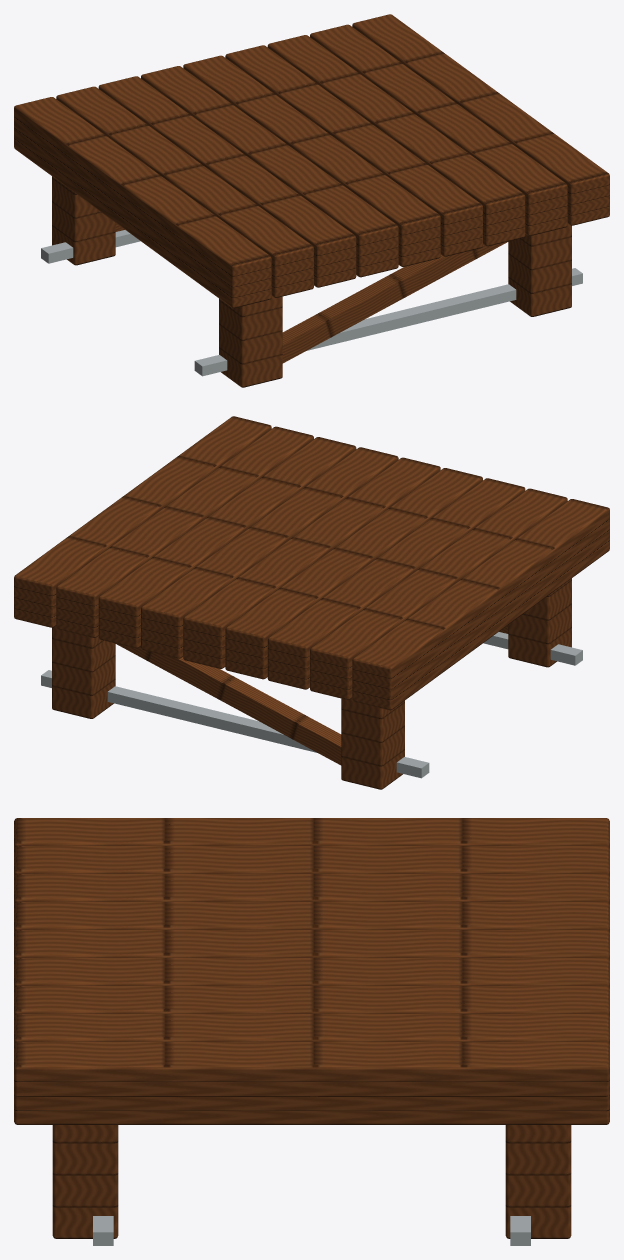
File: modular-survival-base-builder-cantilever-foundation-re-68128ada__24274.glb
The picture shows the model from 3 angles, top to bottom: view 1: azimuth 30°, elevation 25°; view 2: azimuth 150°, elevation 25°; view 3: azimuth 270°, elevation 25°; orthographic projection. The views are drawn at different scales.
Visible parts, largest first — view 1: cantilever-foundation-reinforced; view 2: cantilever-foundation-reinforced; view 3: cantilever-foundation-reinforced.
Part boxes in pixels (x1,y1,x2,y2): cantilever-foundation-reinforced: (14, 14, 609, 387); cantilever-foundation-reinforced: (14, 416, 609, 789); cantilever-foundation-reinforced: (14, 818, 609, 1245).
Bounding box in the file's own units: 2 × 0.7 × 2.
Materials: 2 (1 with a texture image).
